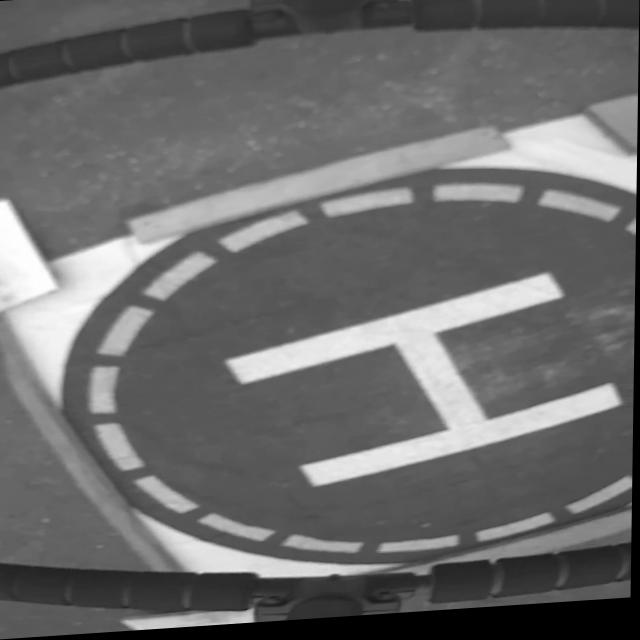Helipad: (225, 280, 624, 490)
